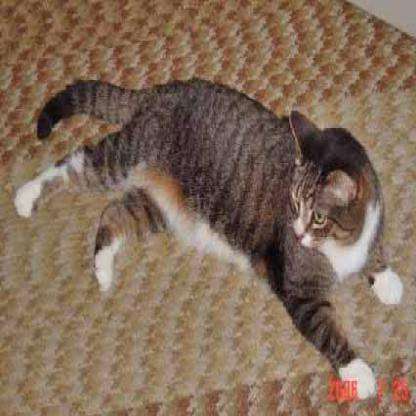cat: (32, 37, 400, 388)
